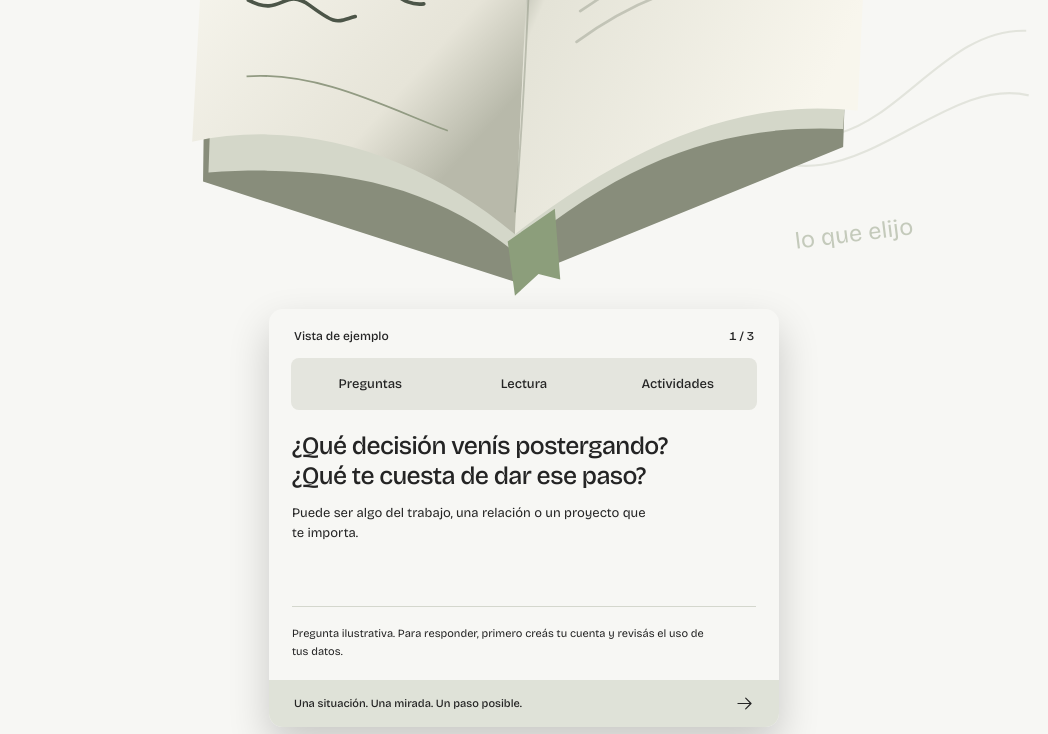
Test: landing example › switches the actual example content and keeps one selected tab in the tab order
(page scrolled)
Expected: the text "¿Qué decisión venís postergando" is shown, [292,431,668,491]
What coordinates should you click on to do the following:
click the tab "Lectura"
I would click on:
 (524, 384)
Its box is [449,362,599,406].
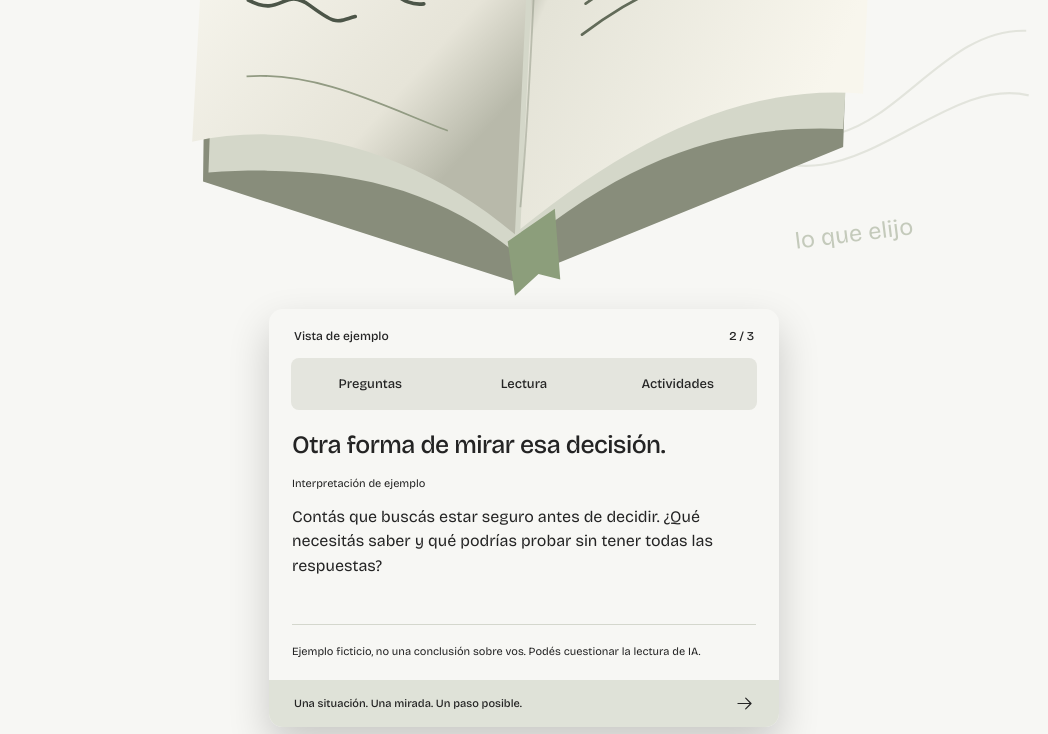
Expected: the panel named "Lectura" shows "Interpretación de ejemplo", [292,477,425,490]
What coordinates should you click on to do the following:
click the tab "Actividades"
I would click on:
 (678, 384)
Its box is [602,362,753,406].
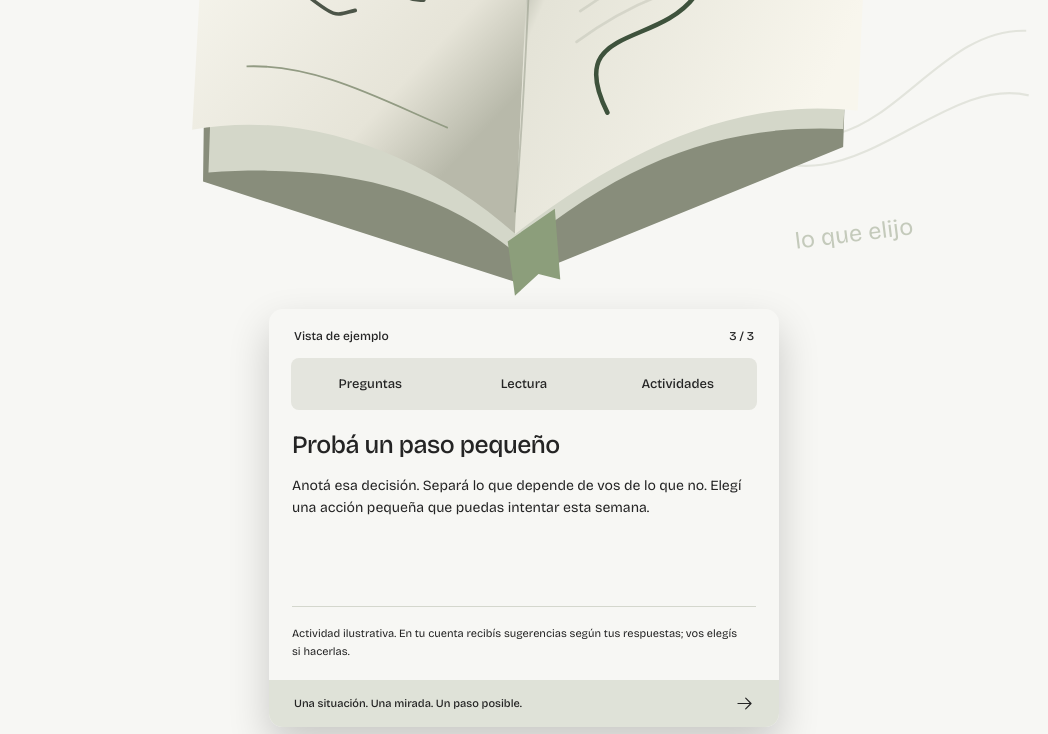
Expected: the panel named "Actividades" shows "Probá un paso pequeño", [292,430,560,460]
